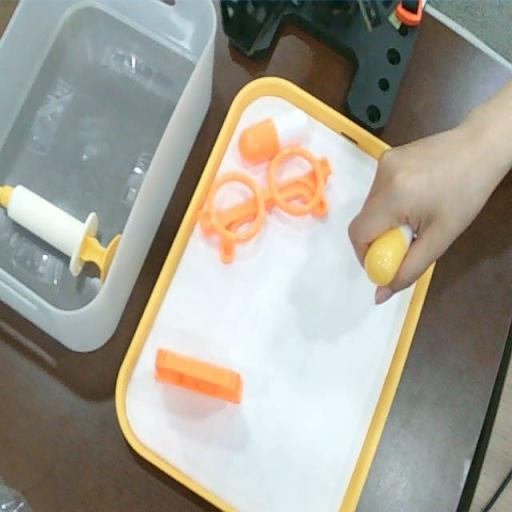hospital: (349, 134, 498, 308)
